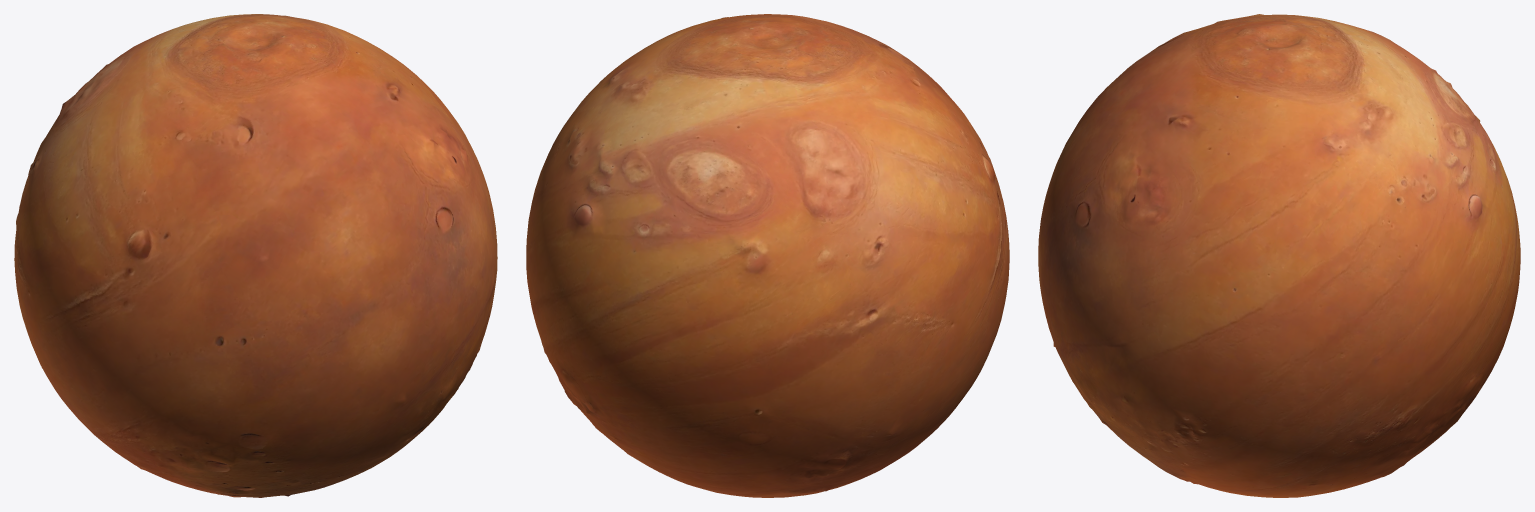
The model's file is desert_planet_3.glb.
The picture shows the model from 3 angles, left to right: view 1: azimuth 30°, elevation 25°; view 2: azimuth 150°, elevation 25°; view 3: azimuth 270°, elevation 25°; orthographic projection.
Parts seen in each view (by area): view 1: Mesh_0.010; view 2: Mesh_0.010; view 3: Mesh_0.010.
Boxes of the visible parts, x1,y1,x2,y2 form: Mesh_0.010: [14, 14, 497, 497]; Mesh_0.010: [526, 14, 1009, 497]; Mesh_0.010: [1038, 14, 1520, 497].
Bounding box in the file's own units: 2 × 2 × 2.
1 material, 1 textured.
